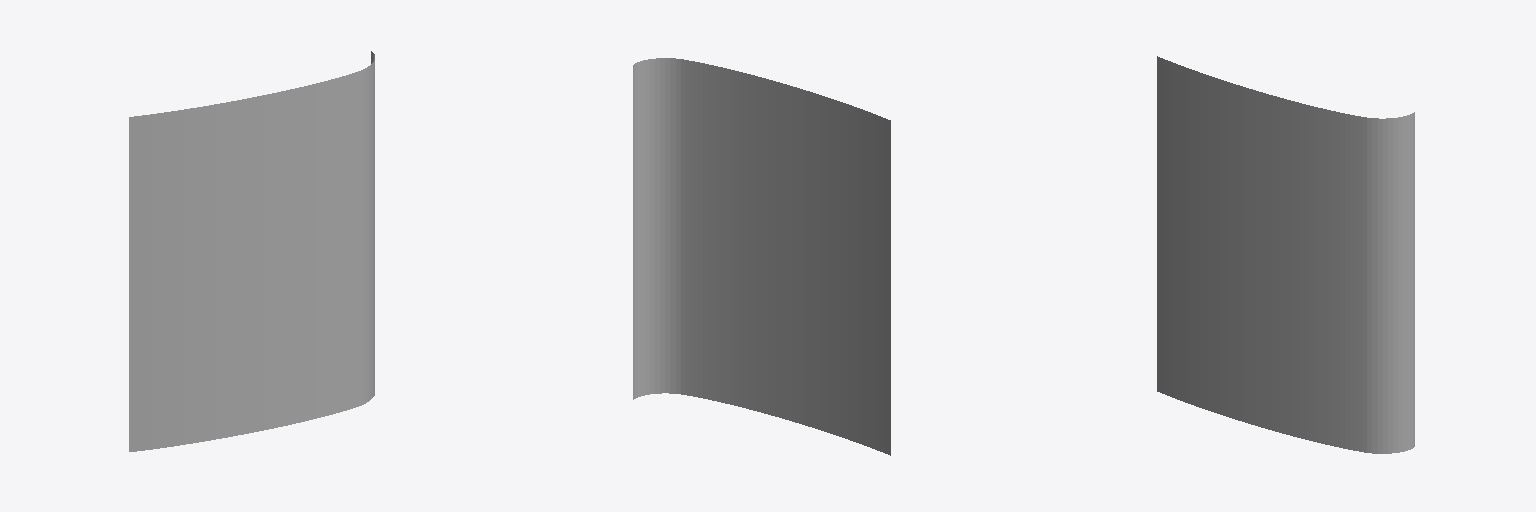
The model's file is left-list3.obj.
3 views of the same model, side by side, from view 1: azimuth 30°, elevation 25°; view 2: azimuth 150°, elevation 25°; view 3: azimuth 330°, elevation 25° (orthographic).
Parts seen in each view (by area): view 1: Cube.001; view 2: Cube.001; view 3: Cube.001.
Part boxes in pixels (left/top/right/bottom): Cube.001: left=129, top=51, right=374, bottom=451; Cube.001: left=633, top=58, right=890, bottom=455; Cube.001: left=1157, top=56, right=1414, bottom=453.
Bounding box in the file's own units: 1.88 × 2.41 × 0.2624.